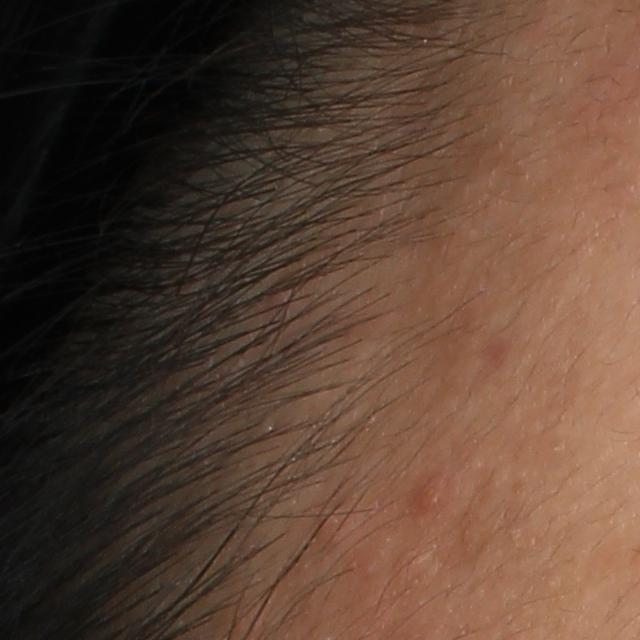papule: (413, 475, 449, 510)
